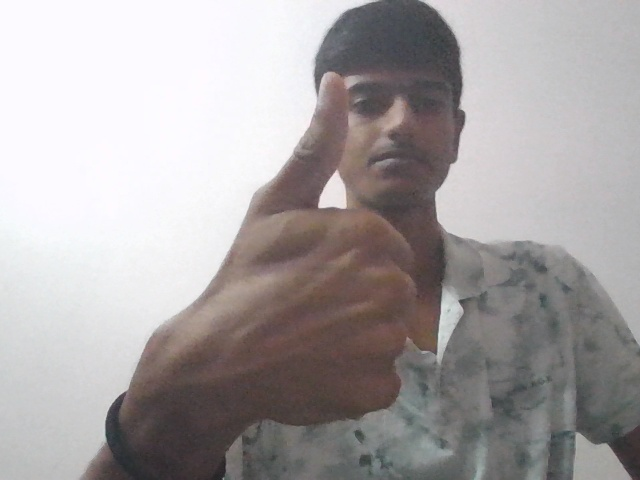thanks: (136, 65, 425, 444)
